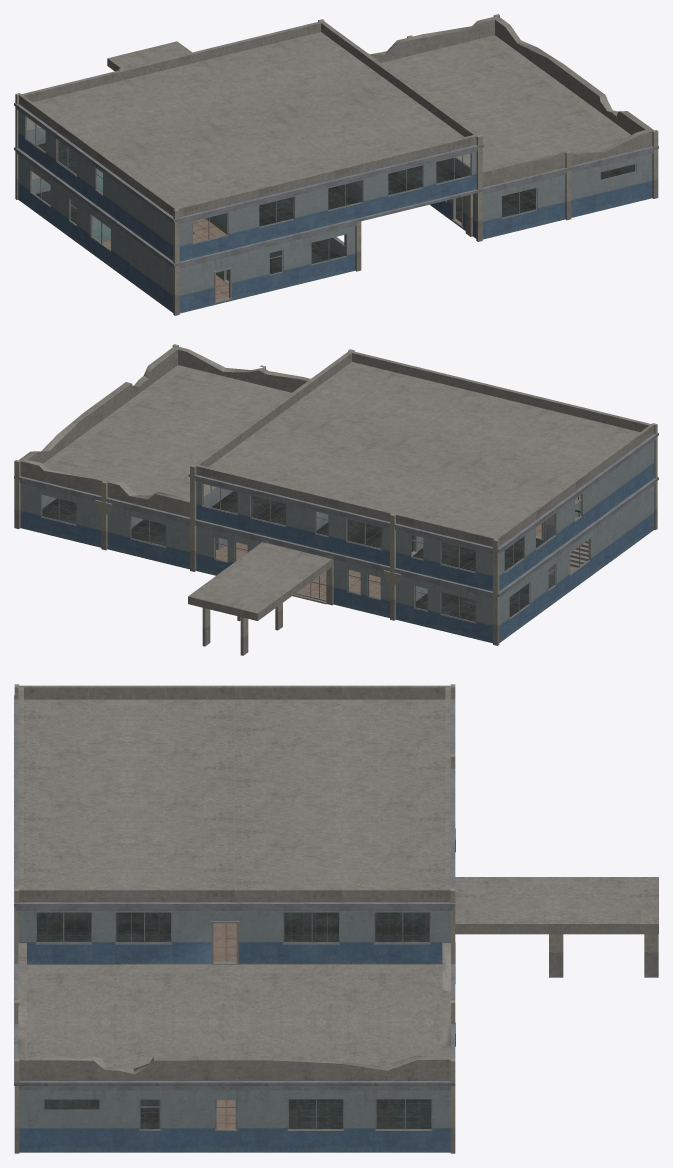
Rendered from Building_Jcj_2048.glb.
The picture shows the model from 3 angles, top to bottom: view 1: azimuth 30°, elevation 25°; view 2: azimuth 150°, elevation 25°; view 3: azimuth 270°, elevation 25°; orthographic projection. The views are drawn at different scales.
Parts seen in each view (by area): view 1: xiutz_jcj; view 2: xiutz_jcj; view 3: xiutz_jcj.
Part boxes in pixels (left/top/right/bottom): xiutz_jcj: left=14, top=14, right=658, bottom=315; xiutz_jcj: left=14, top=344, right=658, bottom=655; xiutz_jcj: left=14, top=684, right=658, bottom=1153.
Size of the model in its own units: 50.26 by 10.85 by 42.
1 material, 1 textured.
